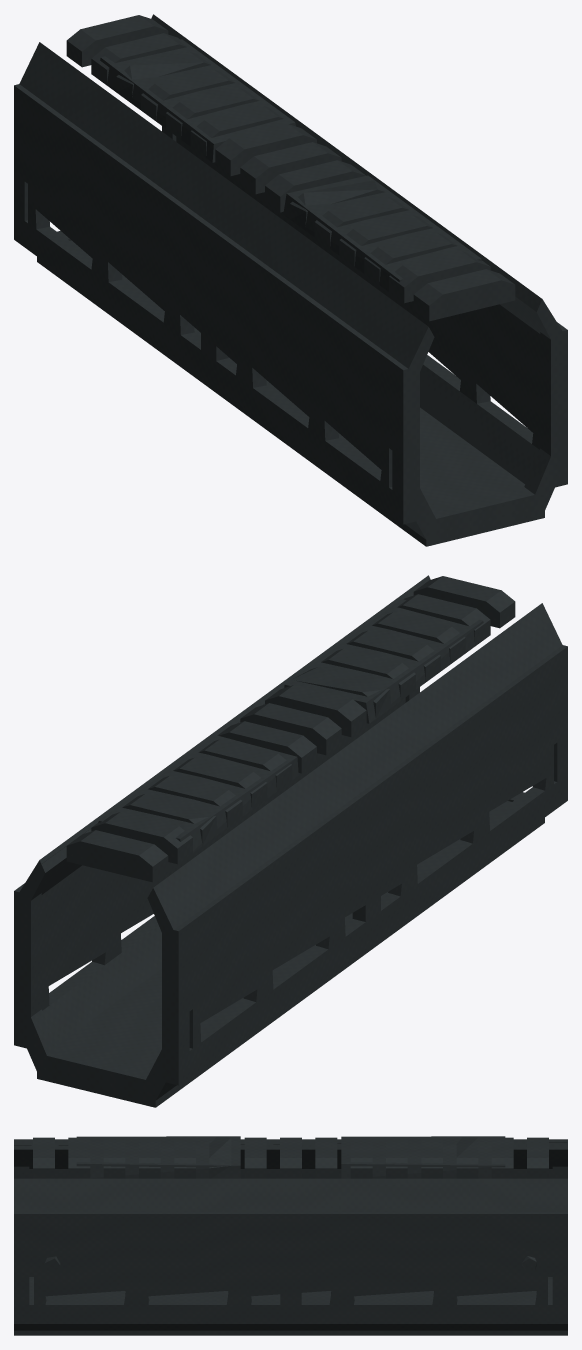
The model's file is hk416_guard.glb.
3 views of the same model, one above another, from view 1: azimuth 30°, elevation 25°; view 2: azimuth 150°, elevation 25°; view 3: azimuth 270°, elevation 25° (orthographic). The views are drawn at different scales.
Visible parts, largest first — view 1: handguard__hk416_guard_LOD0_RAID_Secondary_Original_steel, handguard__hk416_guard_LOD1_RAID_Secondary_Original_steel; view 2: handguard__hk416_guard_LOD0_RAID_Secondary_Original_steel, handguard__hk416_guard_LOD1_RAID_Secondary_Original_steel; view 3: handguard__hk416_guard_LOD0_RAID_Secondary_Original_steel, handguard__hk416_guard_LOD1_RAID_Secondary_Original_steel.
Part boxes in pixels (x1,y1,x2,y2): handguard__hk416_guard_LOD0_RAID_Secondary_Original_steel: (14,14,567,546); handguard__hk416_guard_LOD1_RAID_Secondary_Original_steel: (27,19,567,523); handguard__hk416_guard_LOD0_RAID_Secondary_Original_steel: (14,575,567,1107); handguard__hk416_guard_LOD1_RAID_Secondary_Original_steel: (15,599,566,1096); handguard__hk416_guard_LOD0_RAID_Secondary_Original_steel: (14,1137,567,1335); handguard__hk416_guard_LOD1_RAID_Secondary_Original_steel: (14,1136,566,1323).
Size of the model in its own units: 0.092 by 0.12 by 0.36.
1 material, 1 textured.
